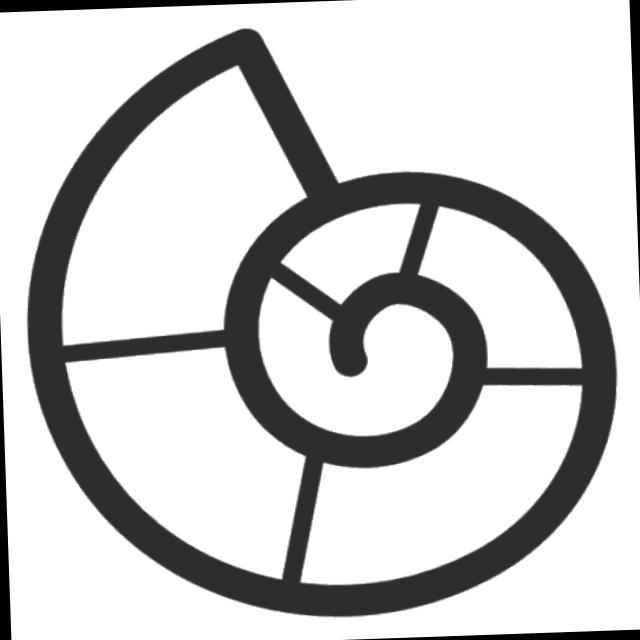fossil: (7, 8, 636, 639)
